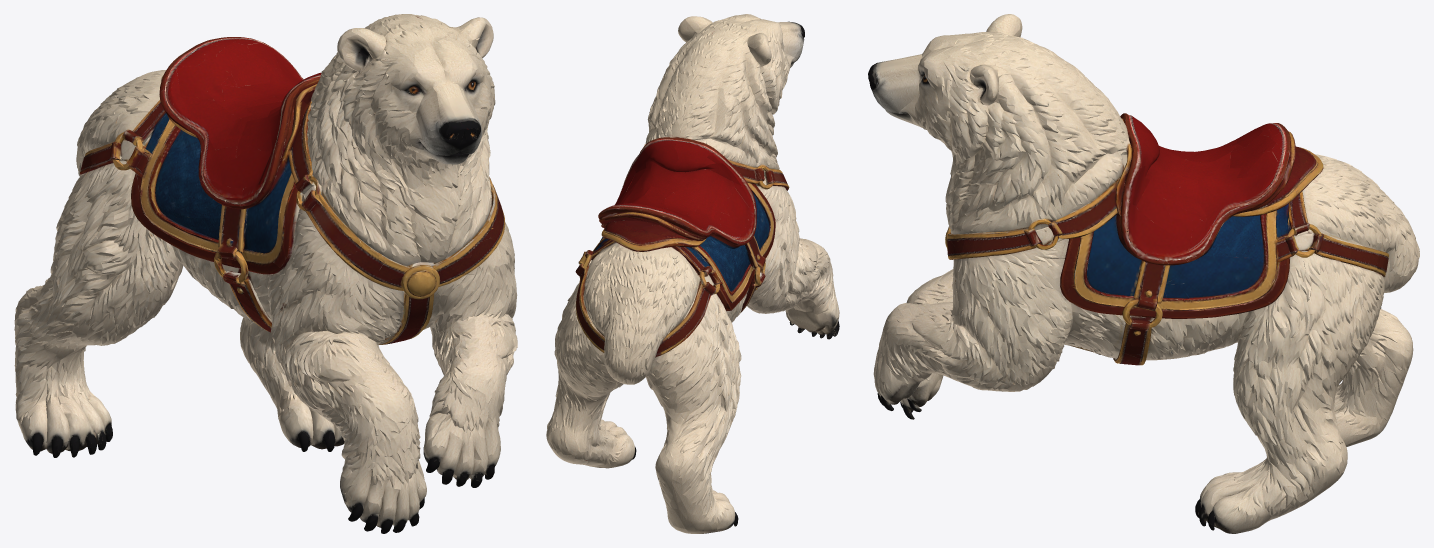
The model's file is polar-bear.glb.
The picture shows the model from 3 angles, left to right: view 1: azimuth 30°, elevation 25°; view 2: azimuth 150°, elevation 25°; view 3: azimuth 270°, elevation 25°; orthographic projection. The views are drawn at different scales.
Size of the model in its own units: 1.06 by 1.77 by 1.9.
1 material, 1 textured.
